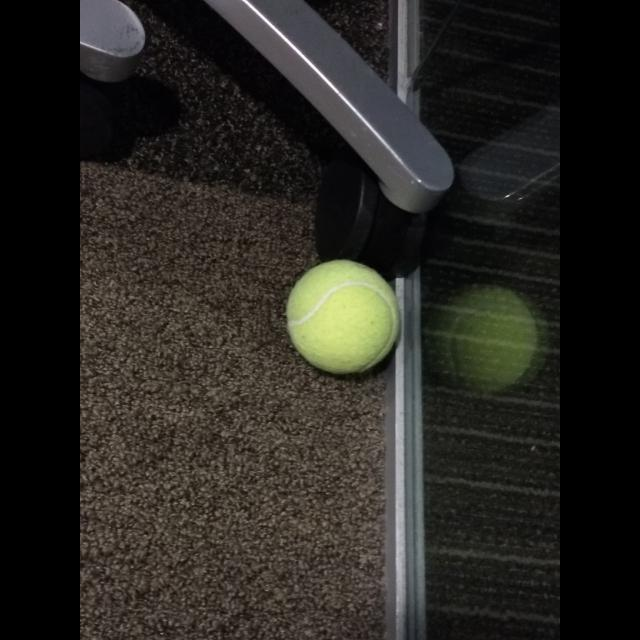tennis-ball: (288, 257, 402, 379)
